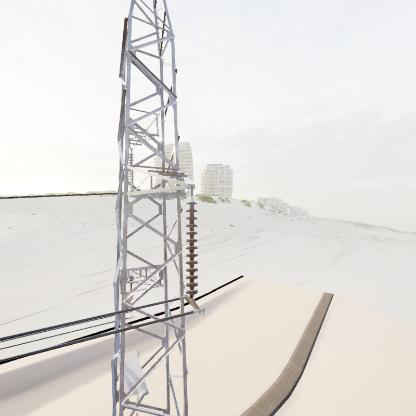insulator: (185, 197, 200, 303)
